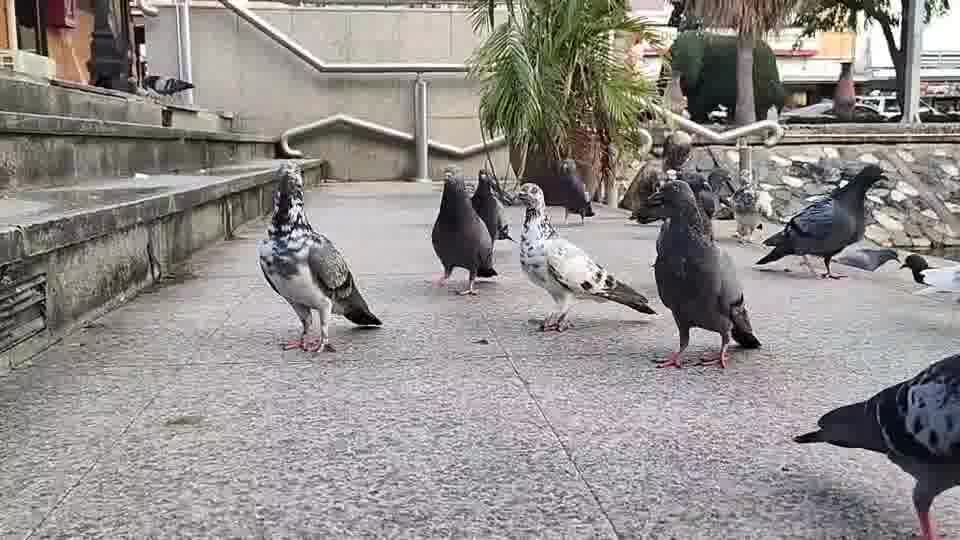Pigeon: (791, 352, 959, 538), (255, 161, 383, 354), (643, 178, 762, 369), (515, 181, 657, 333), (752, 162, 889, 279), (429, 165, 498, 296), (468, 168, 516, 280), (898, 252, 959, 301), (829, 246, 901, 272), (899, 252, 939, 287)
